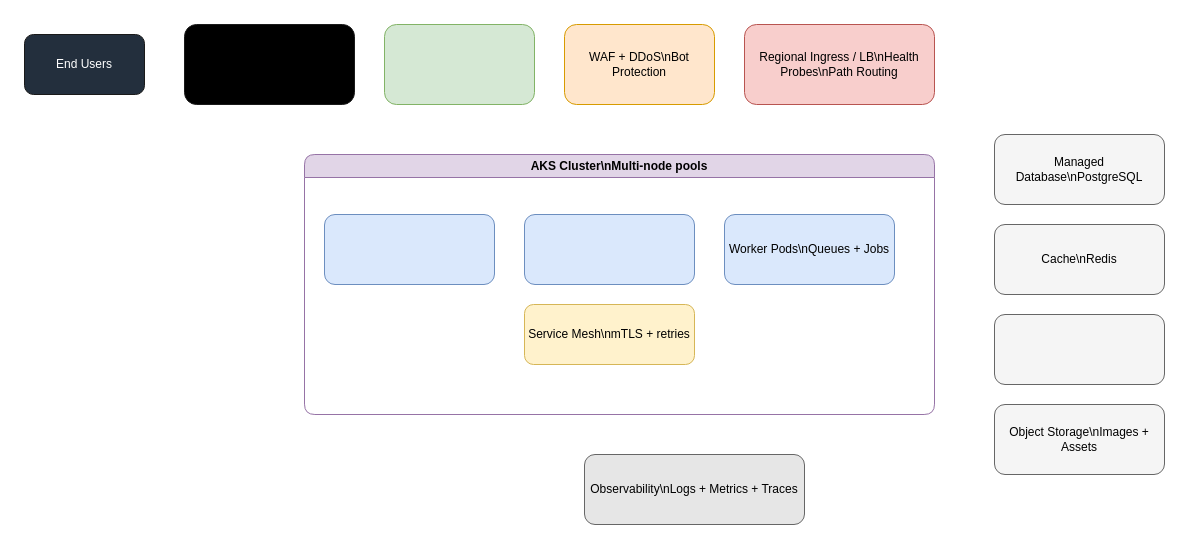
Image size: 1182x542. Some labels were removed from this diagram. Each missing label, with the centre of its shape:
API Pods\nREST/GraphQL: the point at 609,249
CDN\nEdge Caching\nTLS Termination: the point at 459,64
DNS / Traffic Manager\nGeo + Latency Routing\nHealth Checks: the point at 269,64
Message Queue\nService Bus: the point at 1079,349
Web Frontend Pods\n(React / SPA): the point at 409,249
